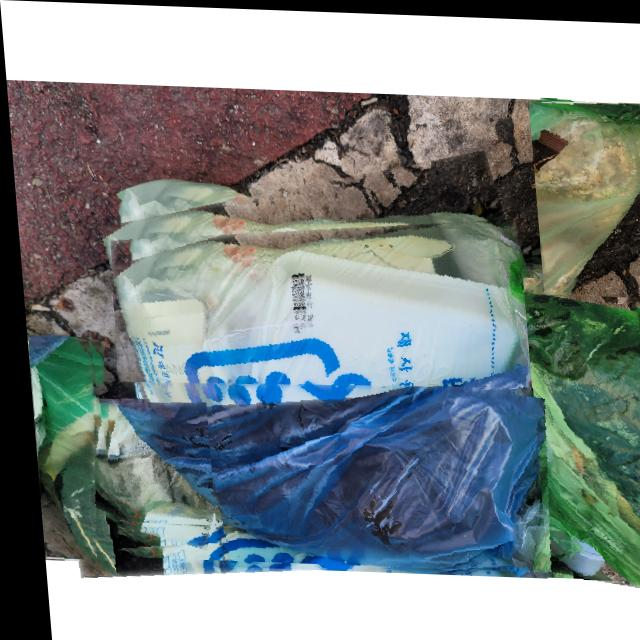general_trashbag: (105, 216, 534, 480), (520, 274, 640, 583), (527, 97, 640, 291), (80, 400, 205, 522), (30, 338, 88, 562)
other_trashbag: (50, 384, 543, 566)
